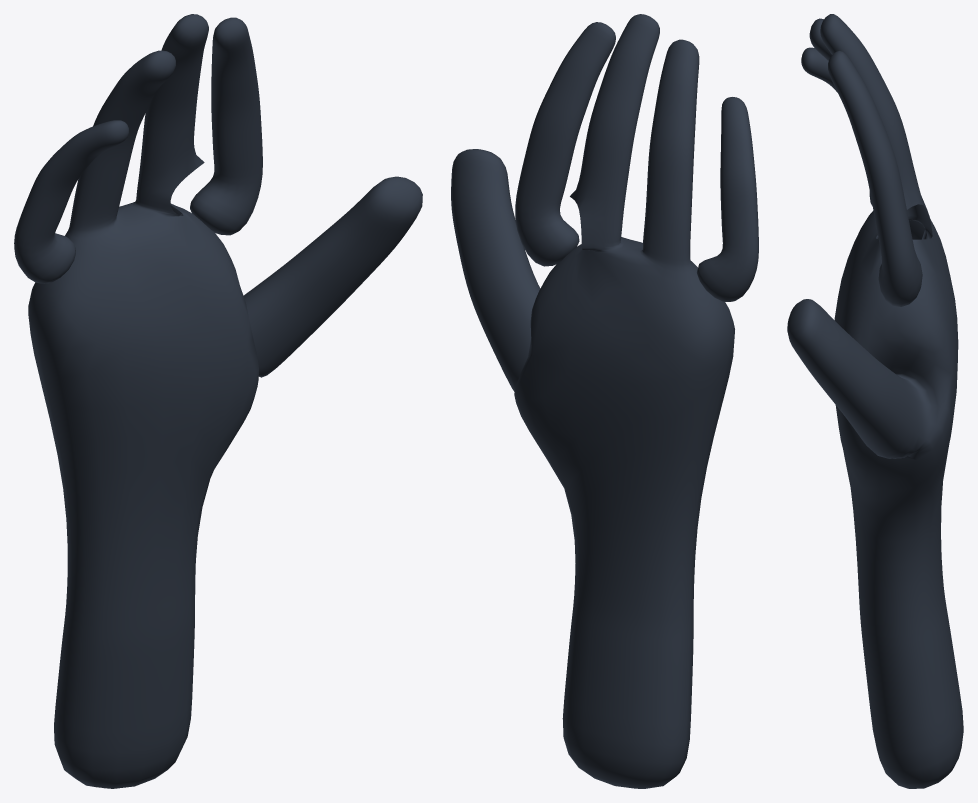
The model's file is mano.glb.
3 renders of one model, left to right at view 1: azimuth 30°, elevation 25°; view 2: azimuth 150°, elevation 25°; view 3: azimuth 270°, elevation 25°, orthographic. The views are drawn at different scales.
Visible parts, largest first — view 1: Mano; view 2: Mano; view 3: Mano.
Part boxes in pixels (x1,y1,x2,y2): Mano: (14, 14, 422, 788); Mano: (451, 14, 758, 788); Mano: (787, 14, 963, 788).
Bounding box in the file's own units: 0.1452 × 0.3004 × 0.062.
